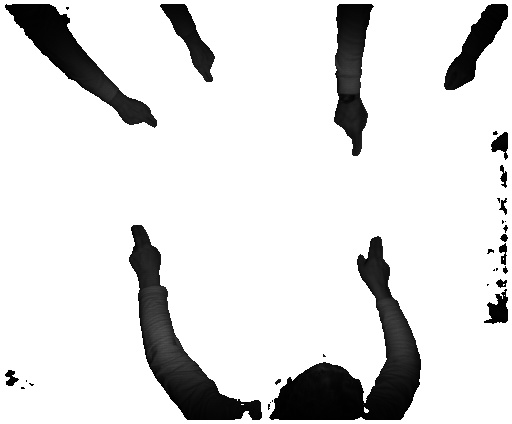fist: (440, 57, 478, 95)
hand: (352, 232, 391, 289), (328, 102, 367, 159), (128, 224, 167, 278), (184, 43, 215, 87), (116, 98, 159, 127)
